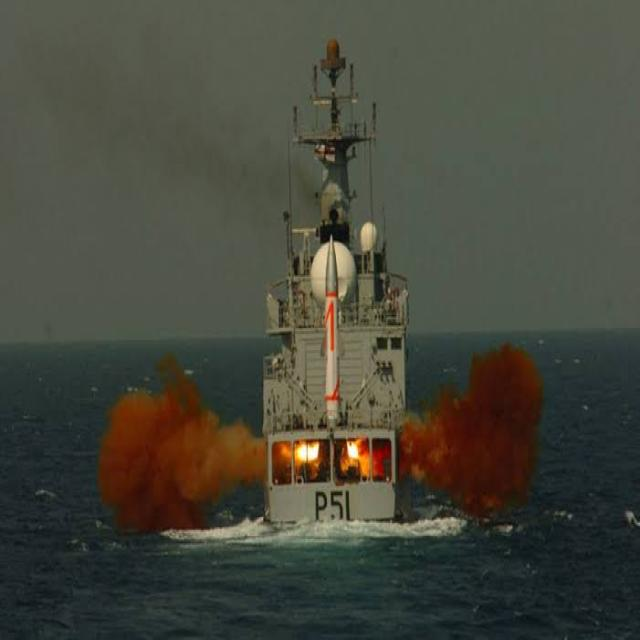Patrol-Vessel-Sukanya-Class-IND: (248, 14, 414, 538)
